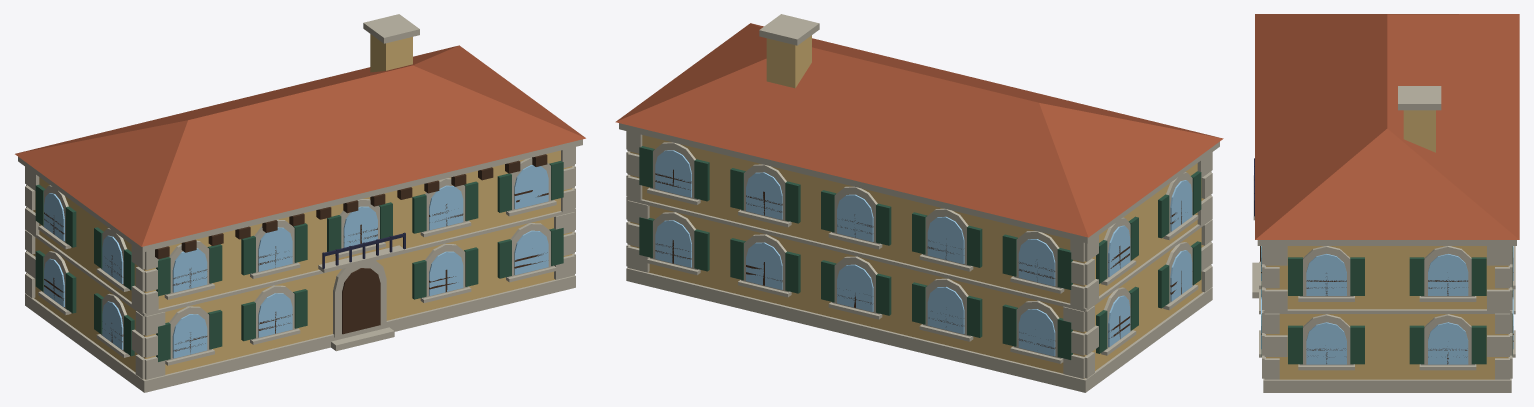
The model's file is house-2x1-2f-tuscan-a.glb.
3 renders of one model, left to right at view 1: azimuth 30°, elevation 25°; view 2: azimuth 150°, elevation 25°; view 3: azimuth 270°, elevation 25°, orthographic. The views are drawn at different scales.
Visible parts, largest first — view 1: house-2x1-2f-tuscan-a; view 2: house-2x1-2f-tuscan-a; view 3: house-2x1-2f-tuscan-a.
Boxes of the visible parts, x1,y1,x2,y2 form: house-2x1-2f-tuscan-a: (15, 14, 585, 392); house-2x1-2f-tuscan-a: (615, 14, 1223, 392); house-2x1-2f-tuscan-a: (1252, 14, 1519, 392).
Size of the model in its own units: 1.98 by 0.992 by 0.99.
Materials: 1 (1 with a texture image).
